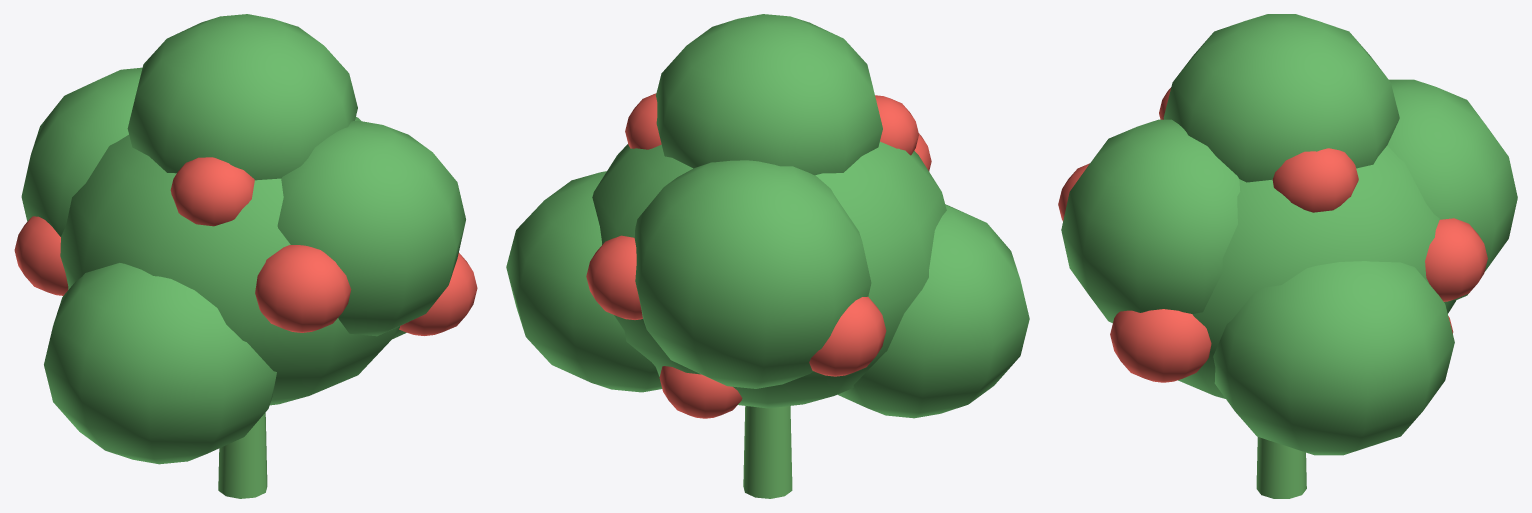
The model's file is OW_Crop_Tomato.fbx.
3 views of the same model, side by side, from view 1: azimuth 30°, elevation 25°; view 2: azimuth 150°, elevation 25°; view 3: azimuth 270°, elevation 25° (orthographic).
Visible parts, largest first — view 1: OW_Crop_Tomato; view 2: OW_Crop_Tomato; view 3: OW_Crop_Tomato.
Part boxes in pixels (bbox=[...]): OW_Crop_Tomato: bbox=[14, 14, 477, 498]; OW_Crop_Tomato: bbox=[506, 14, 1029, 498]; OW_Crop_Tomato: bbox=[1058, 14, 1517, 498].
Size of the model in its own units: 63.38 by 65 by 58.4.
